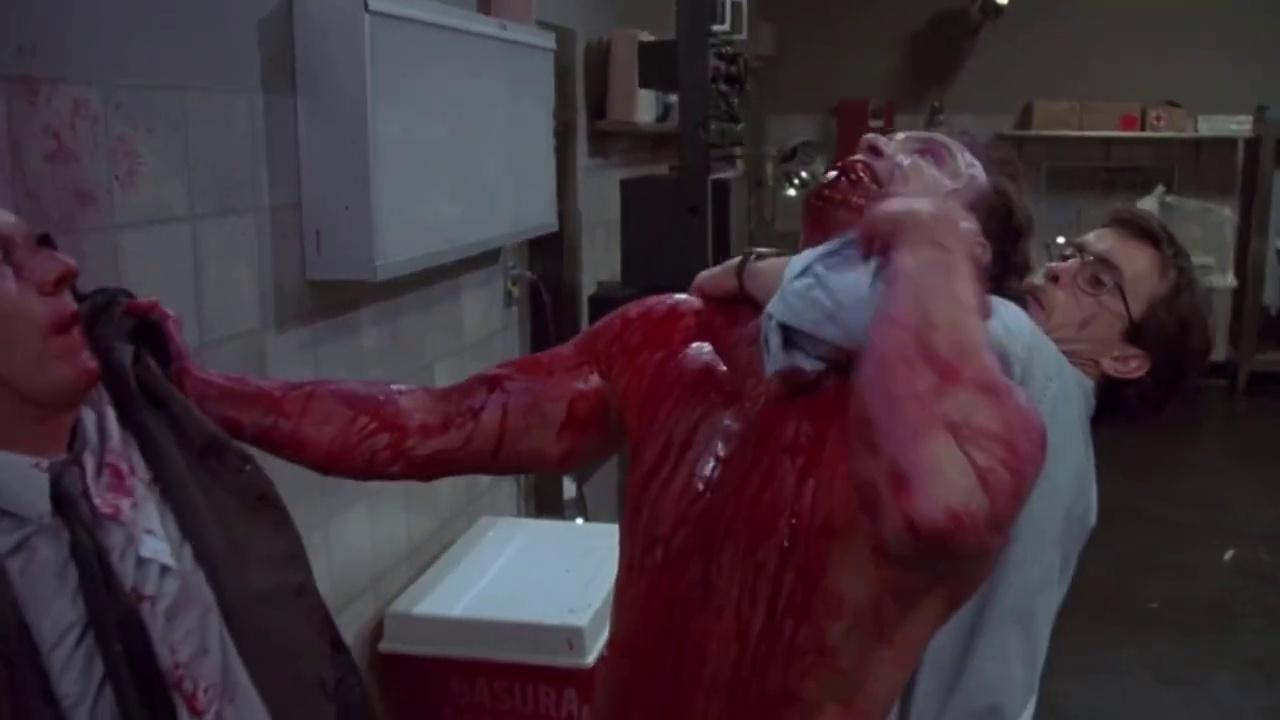Fire: (131, 294, 1046, 718), (8, 279, 98, 428), (151, 636, 267, 720), (801, 154, 882, 248), (74, 445, 143, 522)
